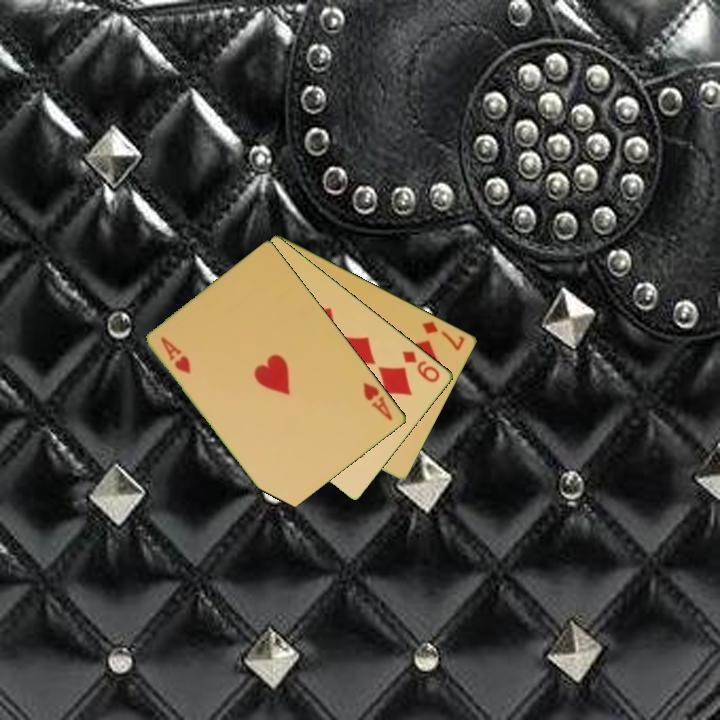7d: (419, 318, 468, 354)
9d: (398, 347, 443, 386)
Ah: (157, 333, 194, 377), (360, 379, 396, 423)
